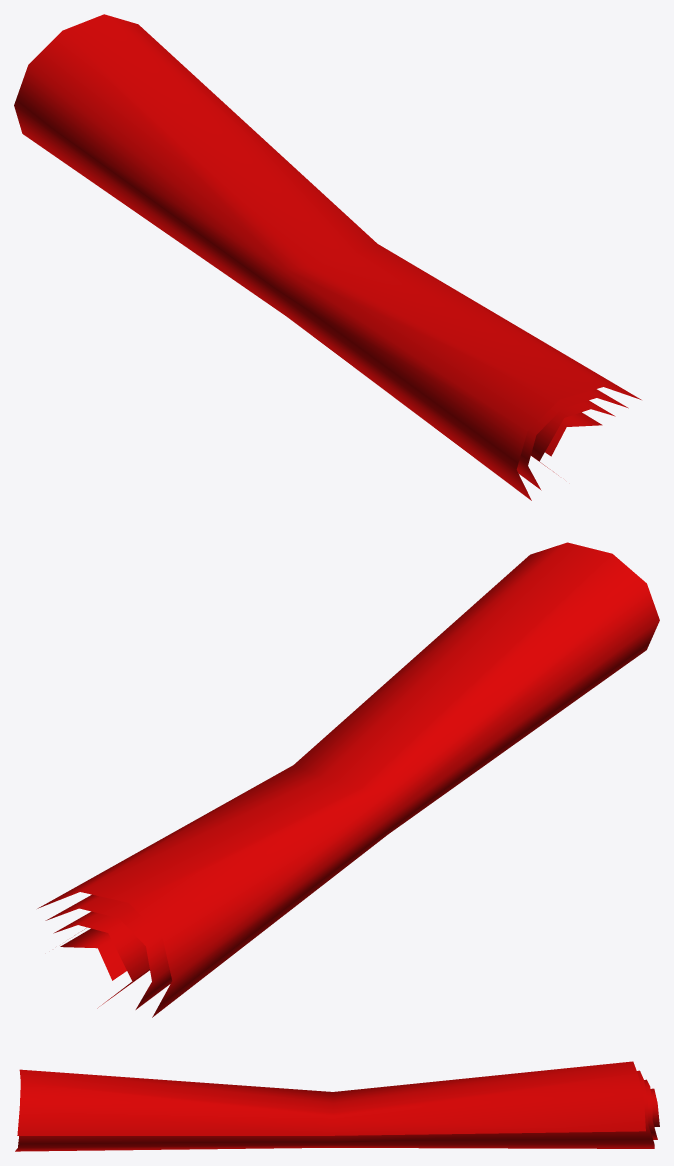
The model's file is Attic_PaperRoll_02_LP.glb.
3 views of the same model, one above another, from view 1: azimuth 30°, elevation 25°; view 2: azimuth 150°, elevation 25°; view 3: azimuth 270°, elevation 25° (orthographic). The views are drawn at different scales.
Visible parts, largest first — view 1: Attic_PaperRoll_02_LP; view 2: Attic_PaperRoll_02_LP; view 3: Attic_PaperRoll_02_LP.
Part boxes in pixels (x1,y1,x2,y2): Attic_PaperRoll_02_LP: (14,14,641,500); Attic_PaperRoll_02_LP: (37,542,659,1017); Attic_PaperRoll_02_LP: (15,1061,659,1151).
Bounding box in the file's own units: 0.0831 × 0.0654 × 0.4927.
